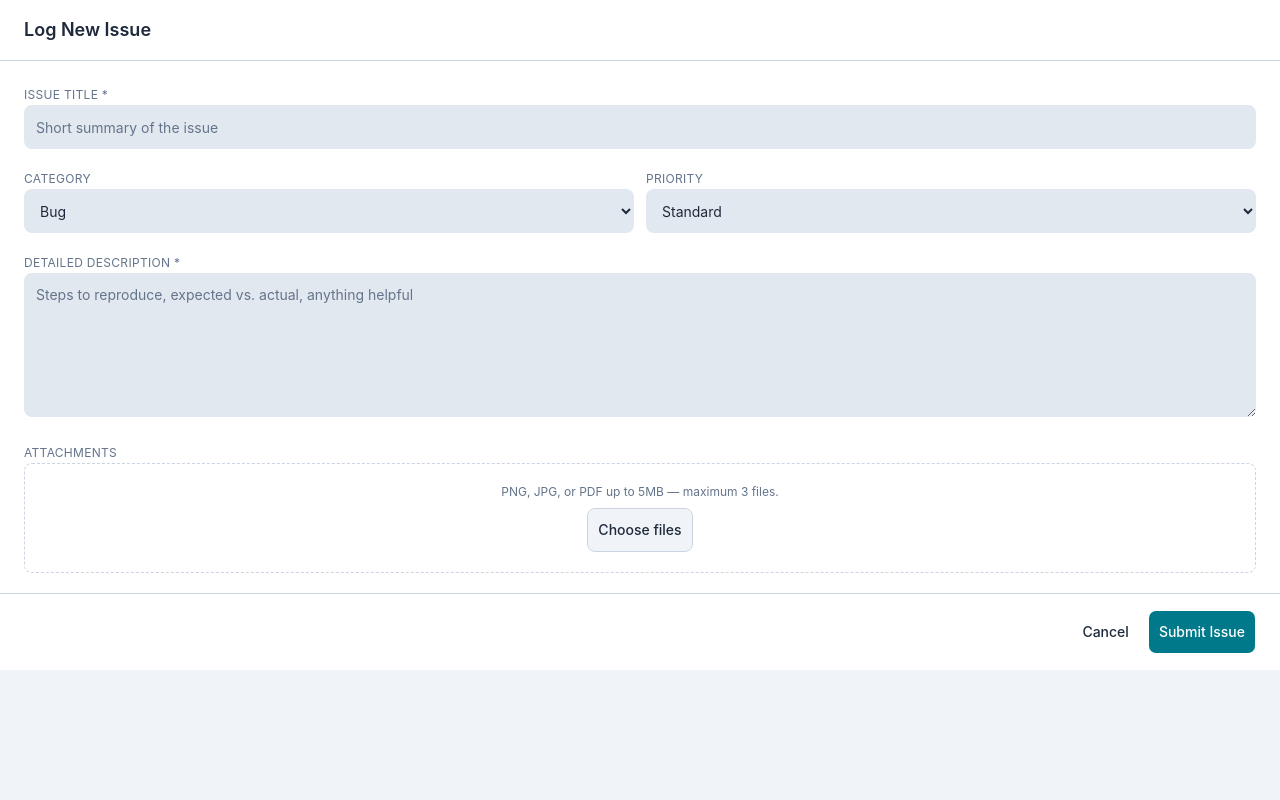
NewTicketForm › surfaces the description-required error when only the title is filled
Type "Title only" into the field with placeholder "Short summary of the issue" at (640, 127), box [24,105,1256,149]
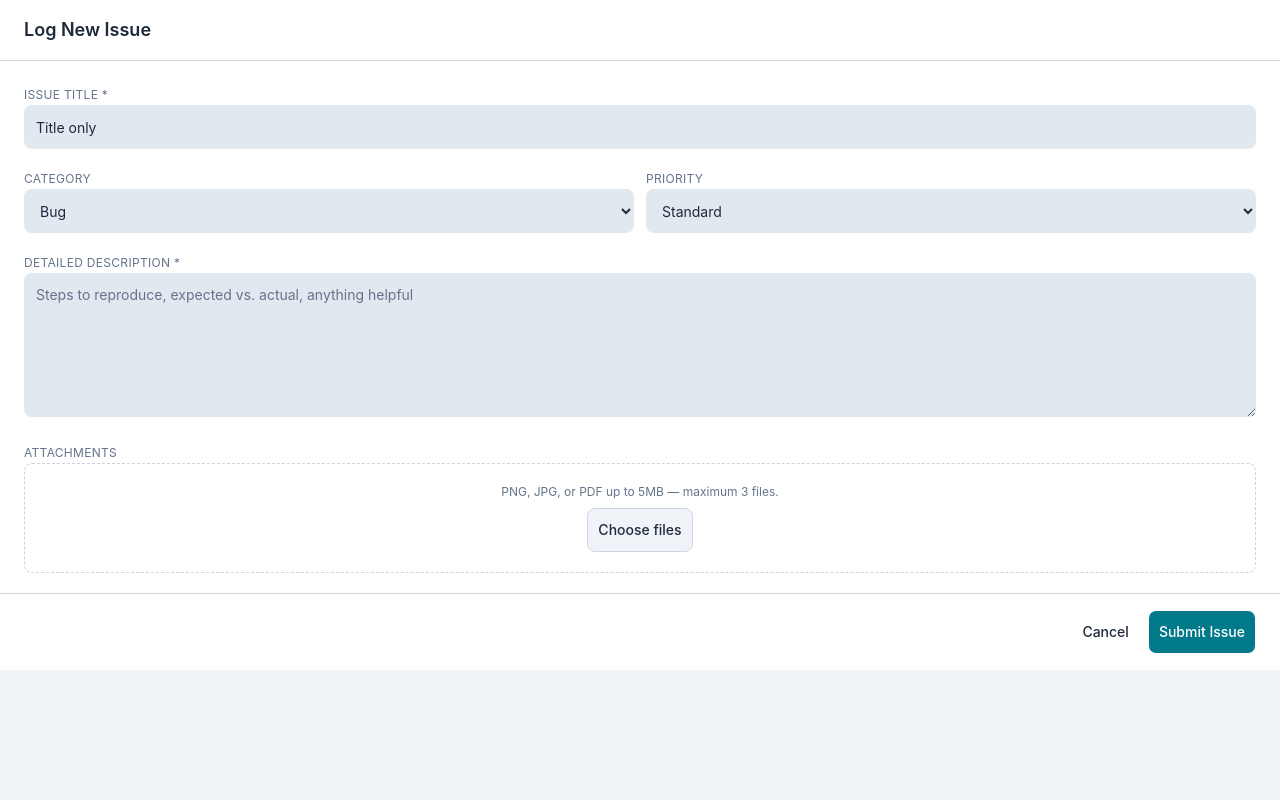
Click the button "Submit Issue" at (1202, 632), box [1148,610,1256,654]
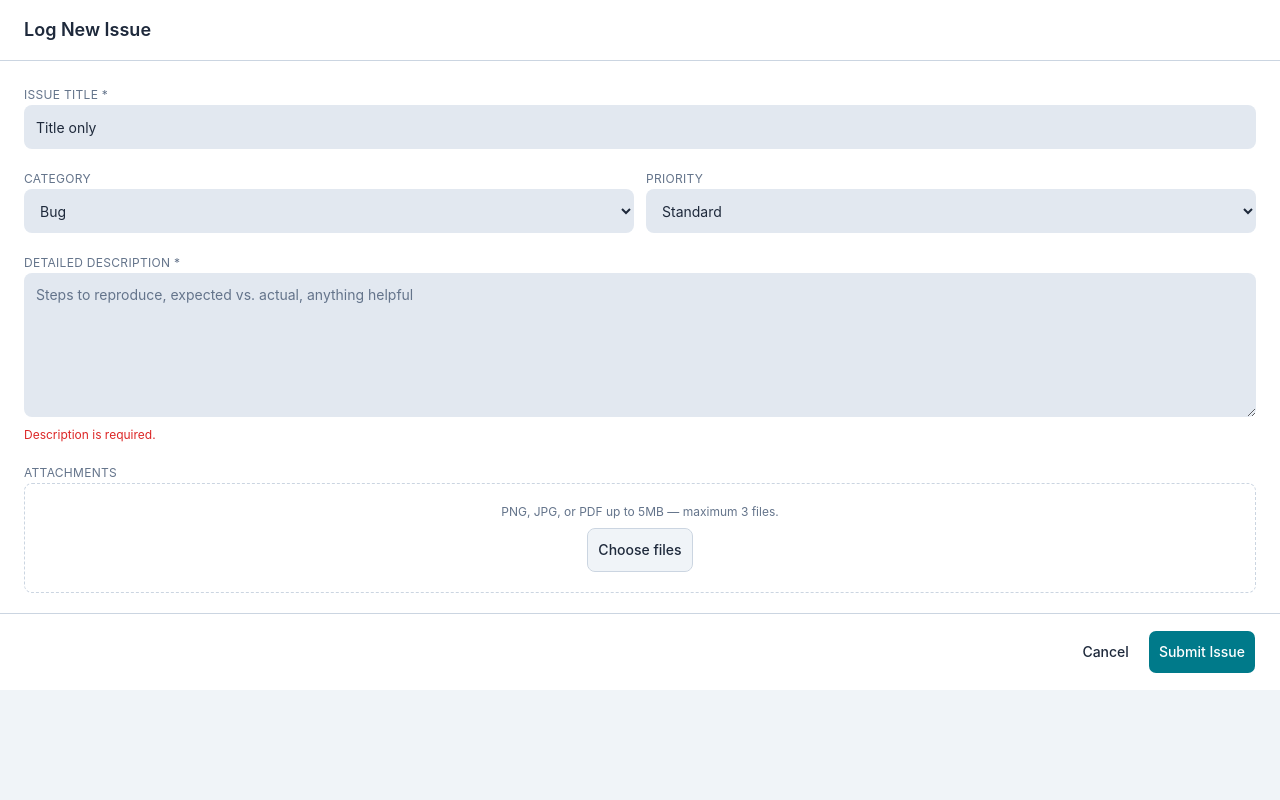
Expected: the text "Description is required." is shown, [24,427,156,442]
